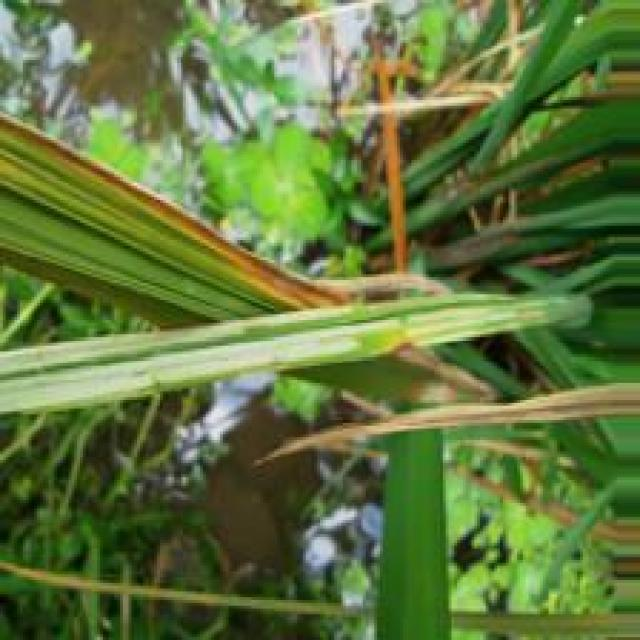Rice_Hispa: (0, 299, 547, 417), (1, 309, 382, 368)
